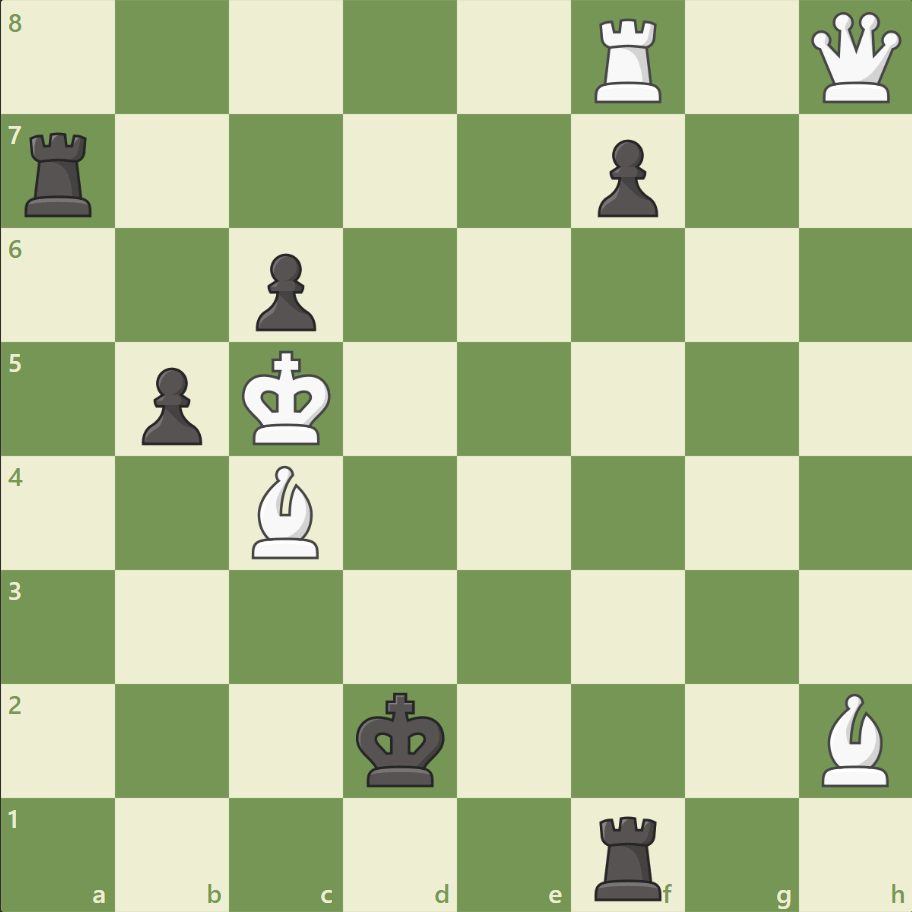B: (244, 460, 328, 563), (812, 687, 896, 790)
K: (238, 344, 338, 452)
Q: (805, 9, 904, 108)
R: (587, 12, 670, 109)
k: (351, 685, 451, 793)
p: (247, 246, 322, 337), (133, 359, 208, 450), (588, 132, 662, 223)
r: (587, 806, 670, 904), (19, 125, 102, 222)
